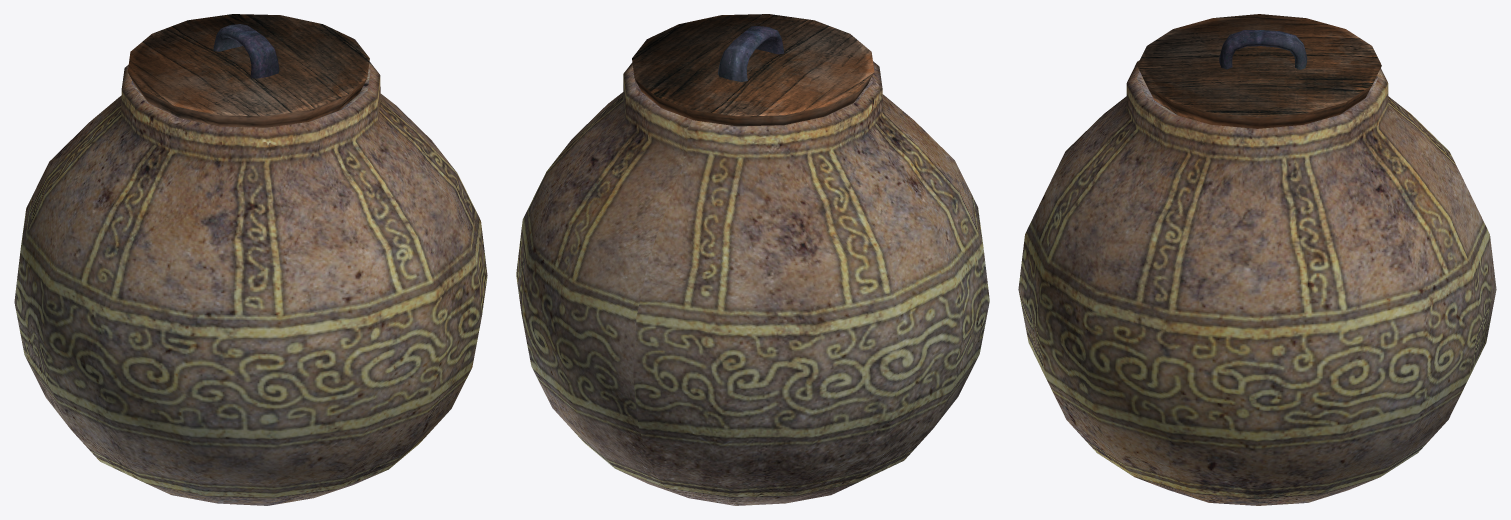
Rendered from Ceramic_container_B.FBX.
3 renders of one model, left to right at view 1: azimuth 30°, elevation 25°; view 2: azimuth 150°, elevation 25°; view 3: azimuth 270°, elevation 25°, orthographic.
Visible parts, largest first — view 1: Ceramic_container_B, Ceramic_container_B_cover; view 2: Ceramic_container_B, Ceramic_container_B_cover; view 3: Ceramic_container_B, Ceramic_container_B_cover.
Boxes of the visible parts, x1,y1,x2,y2 form: Ceramic_container_B: (14,62,487,505); Ceramic_container_B_cover: (127,14,369,127); Ceramic_container_B: (516,61,989,505); Ceramic_container_B_cover: (632,14,874,126); Ceramic_container_B: (1018,60,1496,505); Ceramic_container_B_cover: (1137,14,1381,128).
Size of the model in its own units: 45.94 by 44.46 by 45.94.
